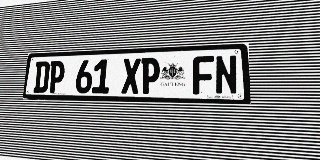1: (92, 59, 111, 93)
6: (75, 60, 93, 93)
D: (33, 61, 50, 93)
F: (193, 56, 214, 95)
N: (215, 55, 238, 95)
P: (140, 57, 160, 94), (48, 61, 65, 93)
X: (121, 58, 141, 94)
